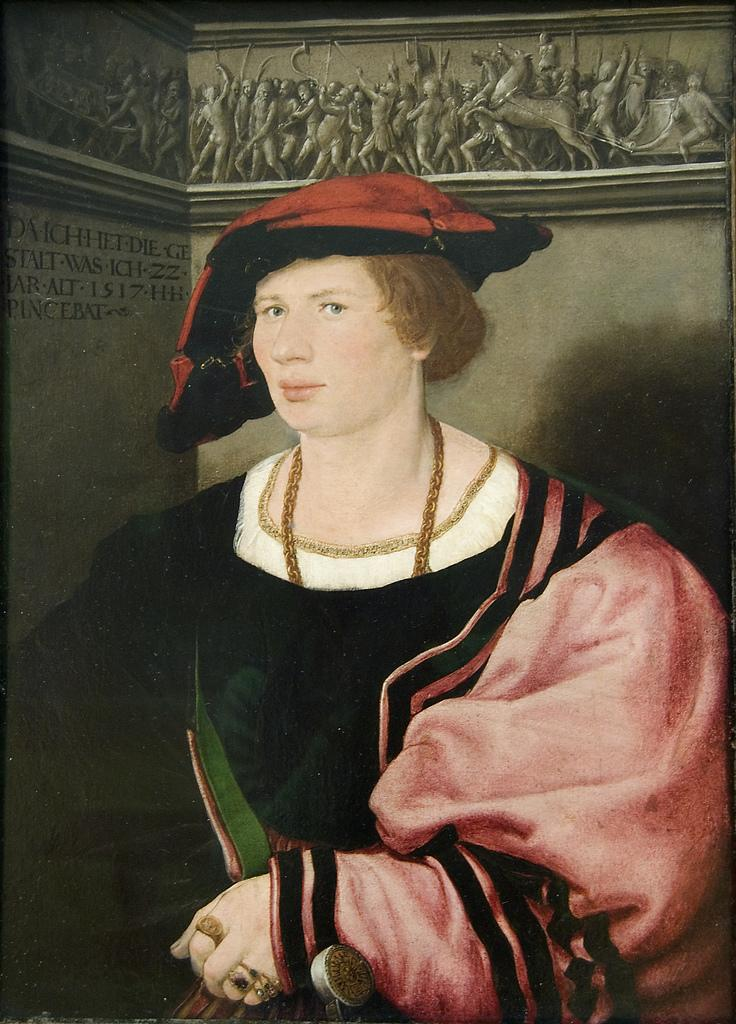Hat: (181, 164, 546, 360)
